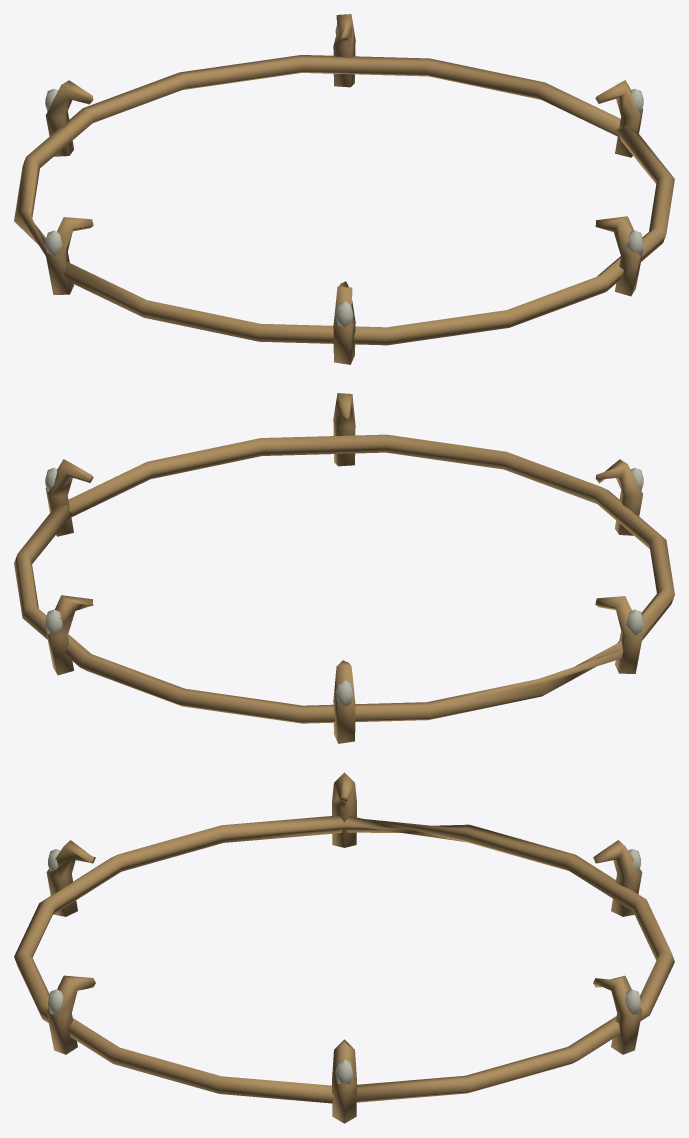
Rendered from tier-mount-mobile.glb.
The picture shows the model from 3 angles, top to bottom: view 1: azimuth 30°, elevation 25°; view 2: azimuth 150°, elevation 25°; view 3: azimuth 270°, elevation 25°; orthographic projection.
Visible parts, largest first — view 1: tier-mount_0, tier-mount_1; view 2: tier-mount_0, tier-mount_1; view 3: tier-mount_0, tier-mount_1.
Boxes of the visible parts, box(x1,y1,x2,y2) form: tier-mount_0: box(14, 14, 674, 364); tier-mount_1: box(45, 25, 643, 327); tier-mount_0: box(14, 393, 674, 743); tier-mount_1: box(45, 468, 643, 706); tier-mount_0: box(14, 772, 674, 1123); tier-mount_1: box(48, 849, 640, 1083).
Bounding box in the file's own units: 1.3 × 0.1565 × 1.25.
